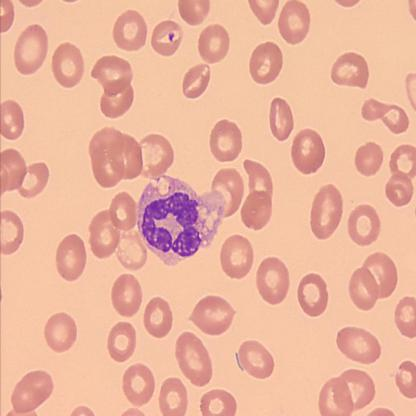Segmented neutrophil: (135, 174, 229, 268)
